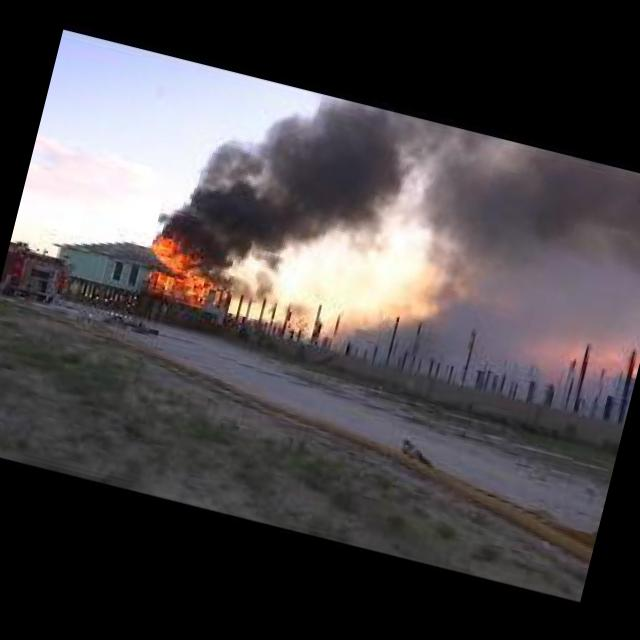fire: (135, 222, 233, 312)
smoke: (151, 58, 640, 340)
